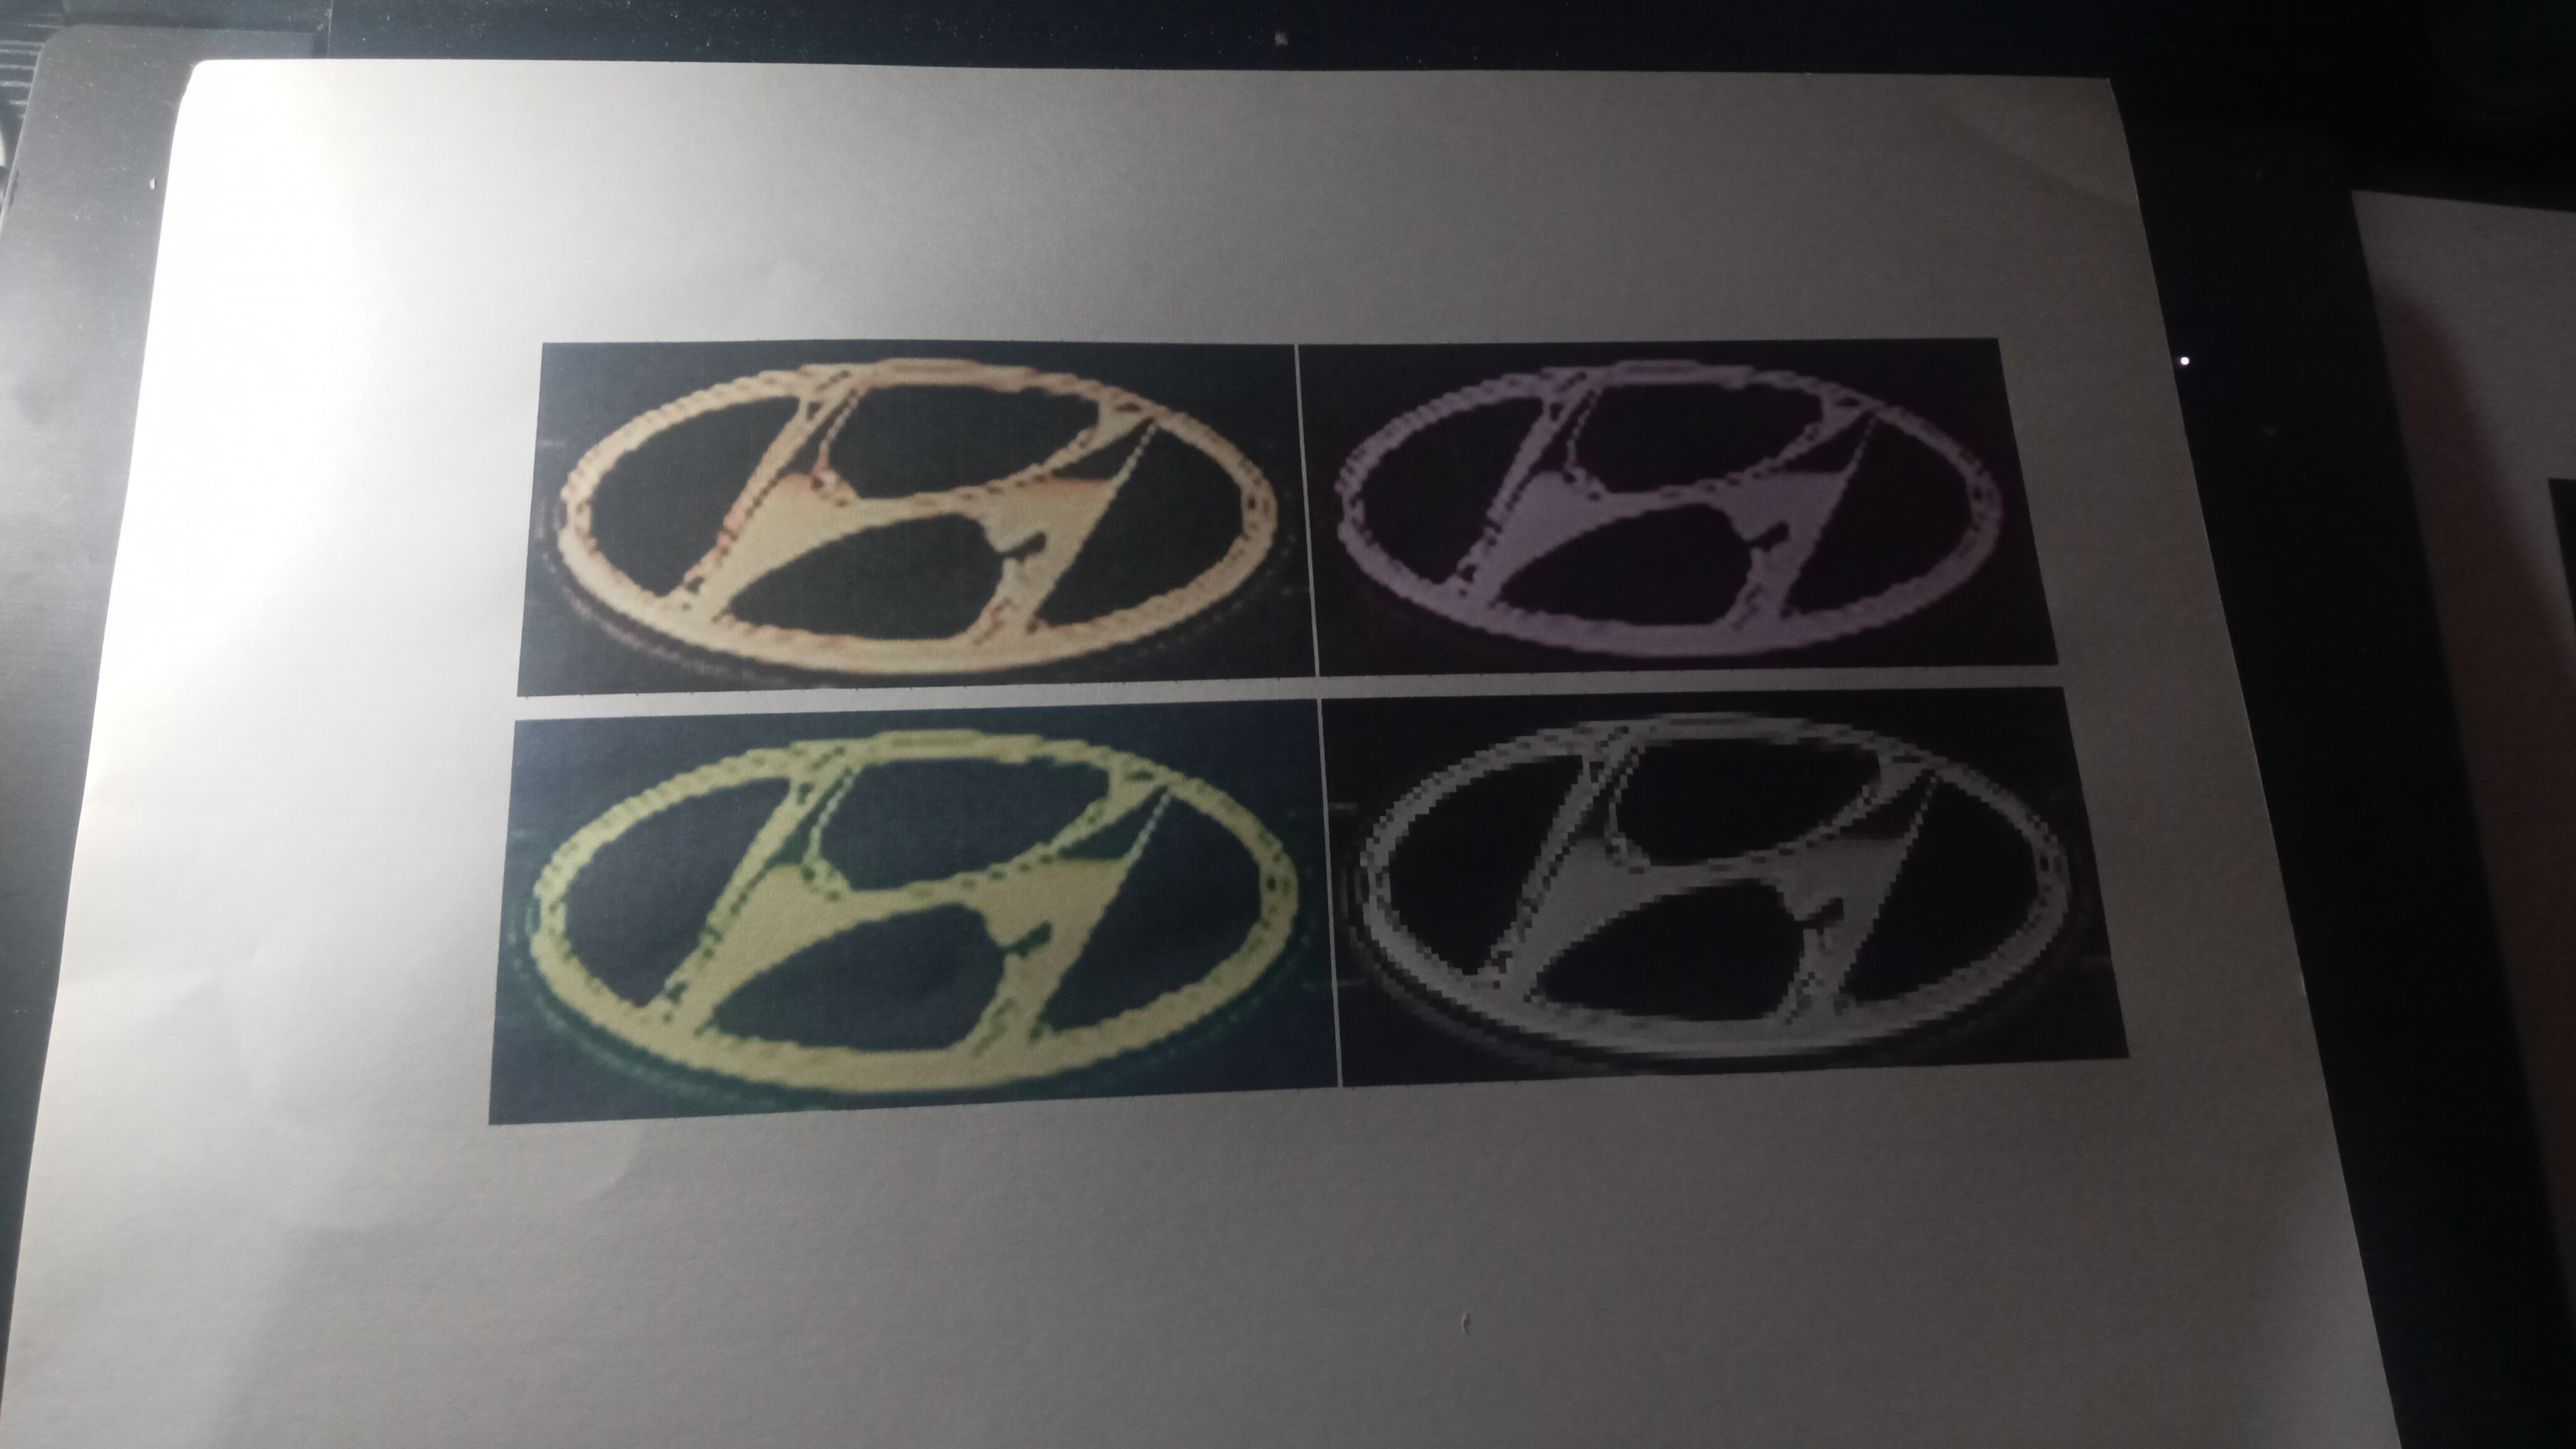Hyundai: (517, 727, 1325, 1102), (1338, 688, 2095, 1060), (515, 329, 1306, 683), (1309, 334, 2026, 667)
